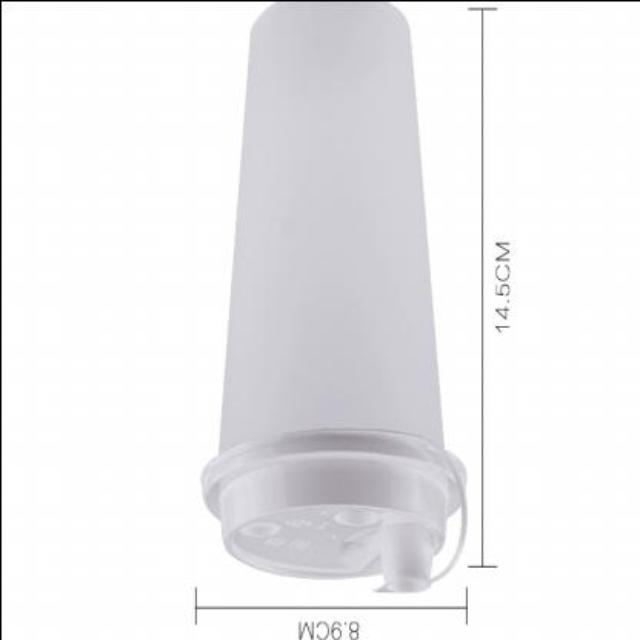plastic_box: (192, 2, 466, 594)
